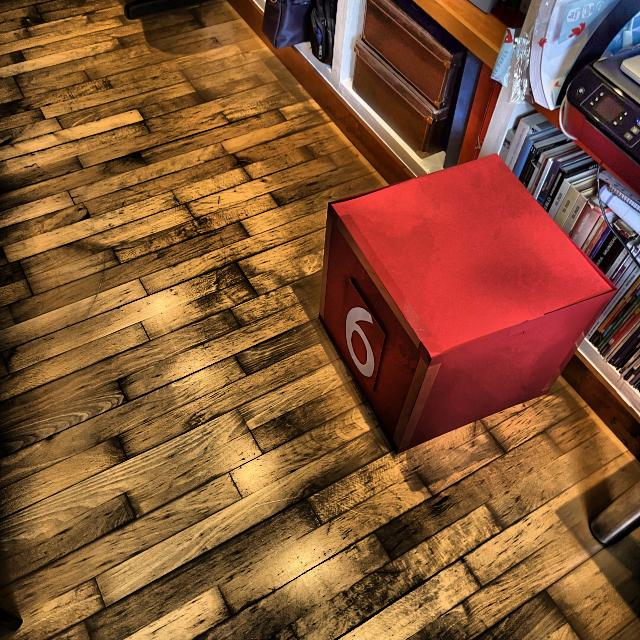red box: (318, 153, 613, 453)
six: (345, 303, 380, 382)
